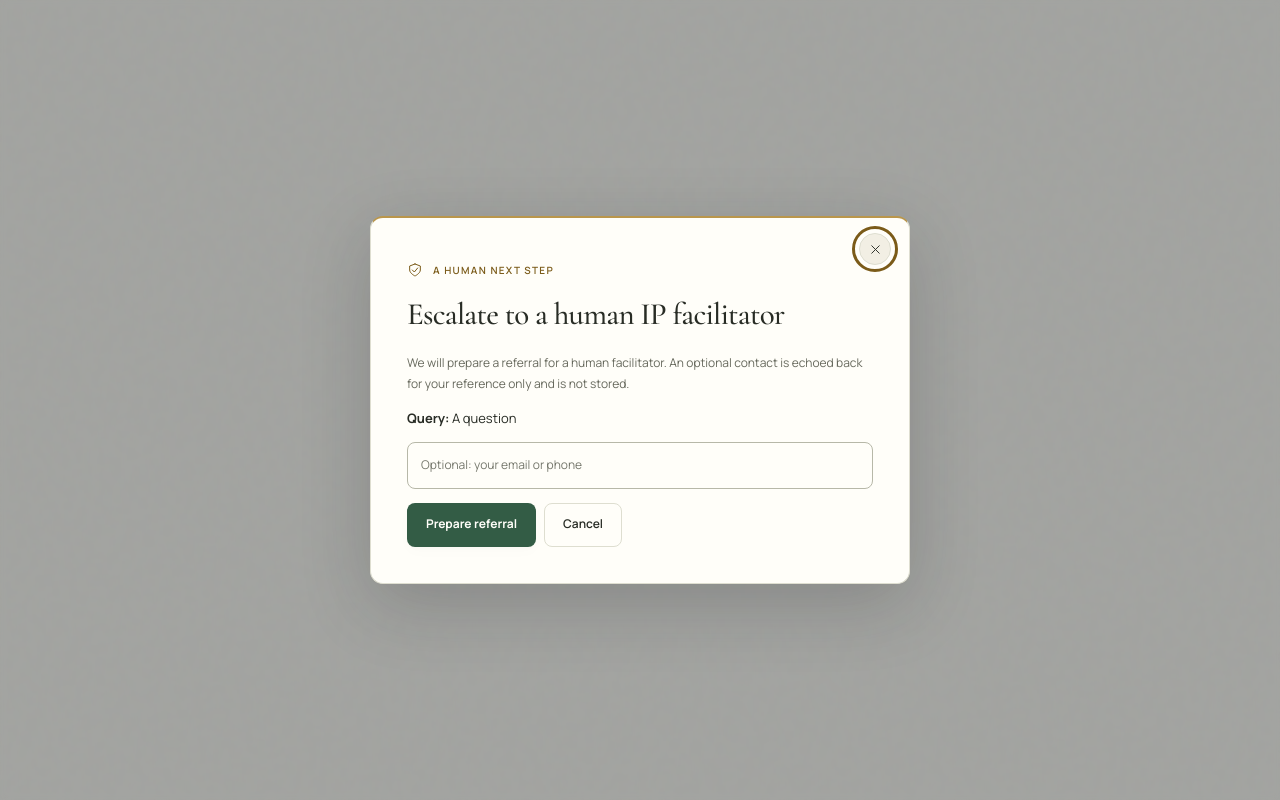
Test: document and human pathways › does not fabricate a referral when its endpoint fails
This screenshot has width=1280, height=800.
Click the button "Prepare referral": (472, 525) [407,503,536,547]
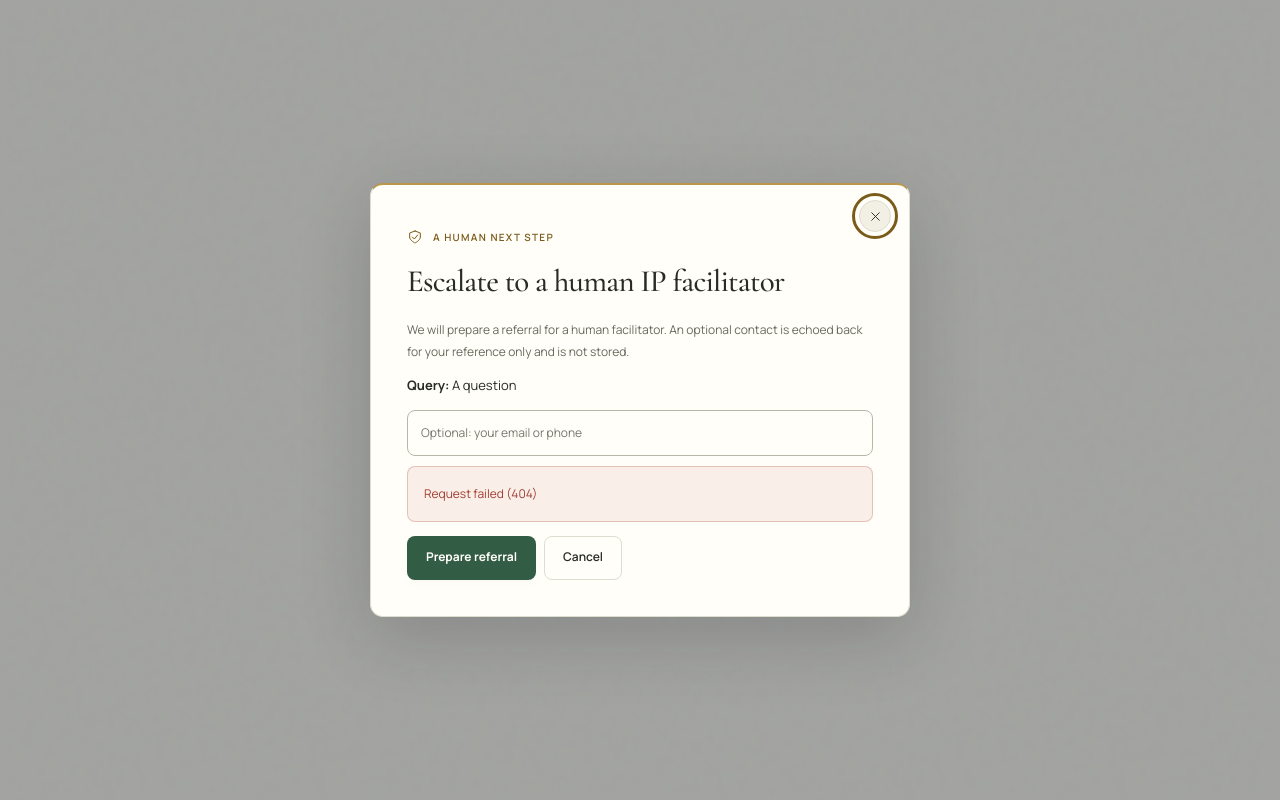
Expected: the message shows "404", [424,485,537,502]
